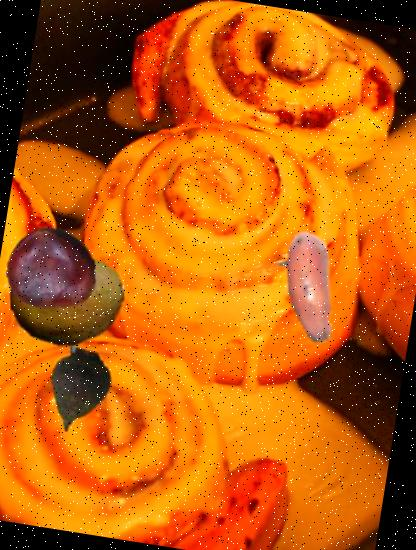Banana: (240, 222, 372, 355)
Beetroot: (26, 340, 130, 446)
Chestnut: (0, 217, 102, 321)
Papaya: (3, 234, 132, 364)
